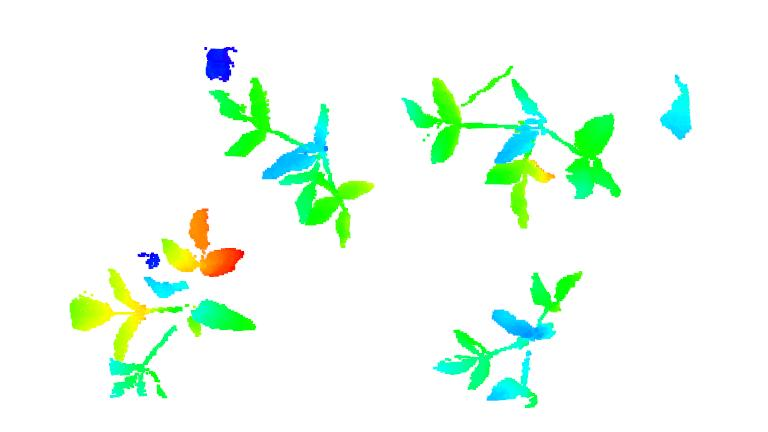mungbean: (64, 204, 251, 403), (404, 71, 626, 234), (206, 75, 375, 252), (431, 265, 587, 413)
